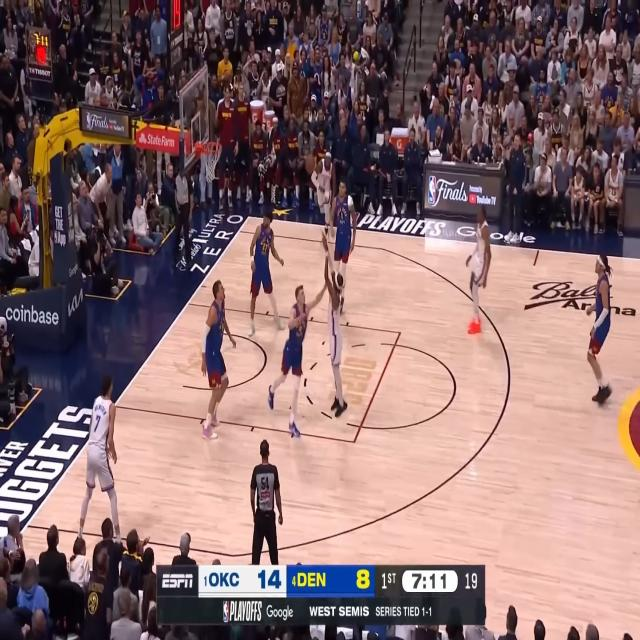ball: (304, 153, 316, 174)
number: (94, 411, 101, 433), (262, 242, 268, 251), (341, 210, 344, 220)
player: (77, 372, 123, 544), (200, 280, 237, 440), (247, 209, 286, 337), (584, 252, 614, 406), (329, 174, 357, 316), (464, 203, 492, 337), (310, 149, 336, 247)
player-jump-shot: (320, 232, 348, 418)
player-shot-block: (267, 283, 328, 437)
referee: (250, 439, 282, 565), (173, 169, 195, 271)
rim: (203, 140, 222, 154)
